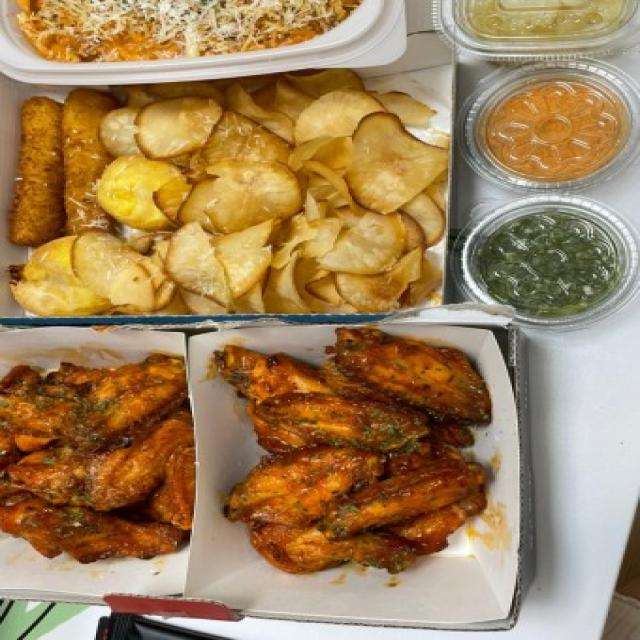Frango: (6, 347, 492, 589)
